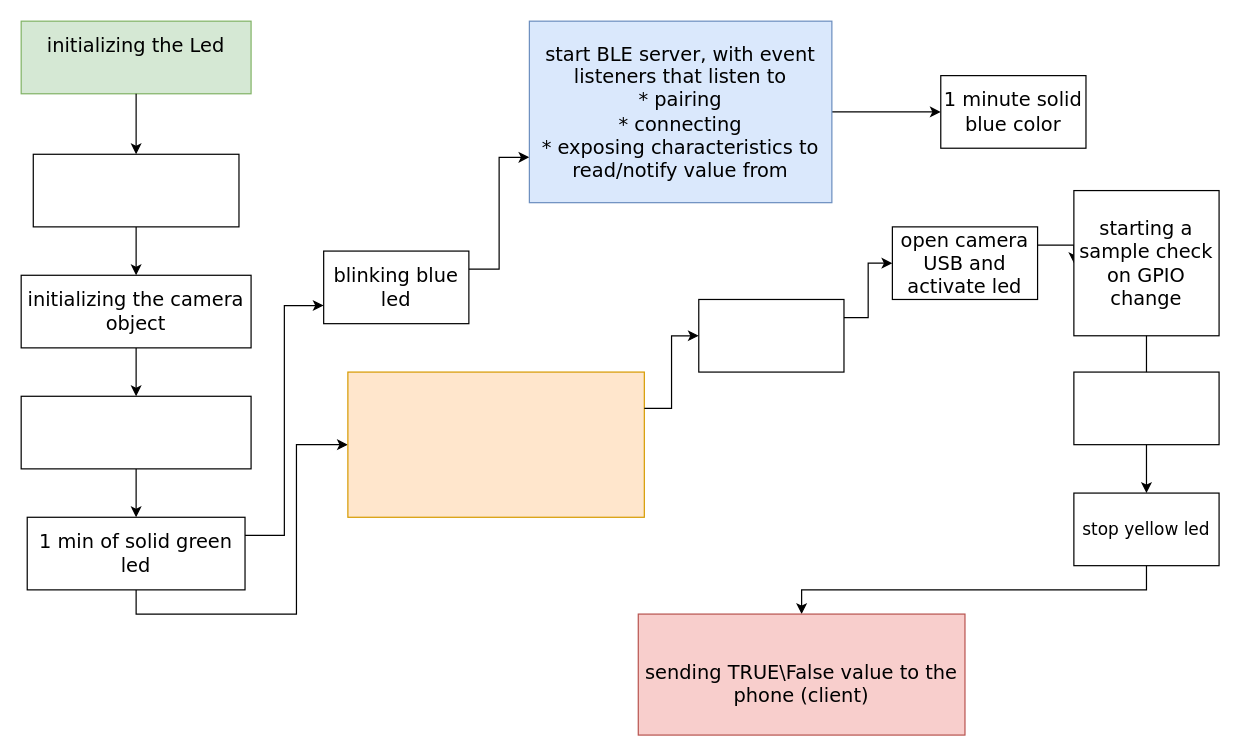
Some shapes in this 1240 by 756 pixel diagram are drawn without their labels. Each missing label, with the centre of its shape:
checking if the laser is on, if it is - closes it: [135,432]
close camera USB and close laser: [1146,408]
start green led blinnking: [135,190]
start yellow led: [771,335]
thread that listen to change in GPIO that belongs to the optical switch: [495,444]
